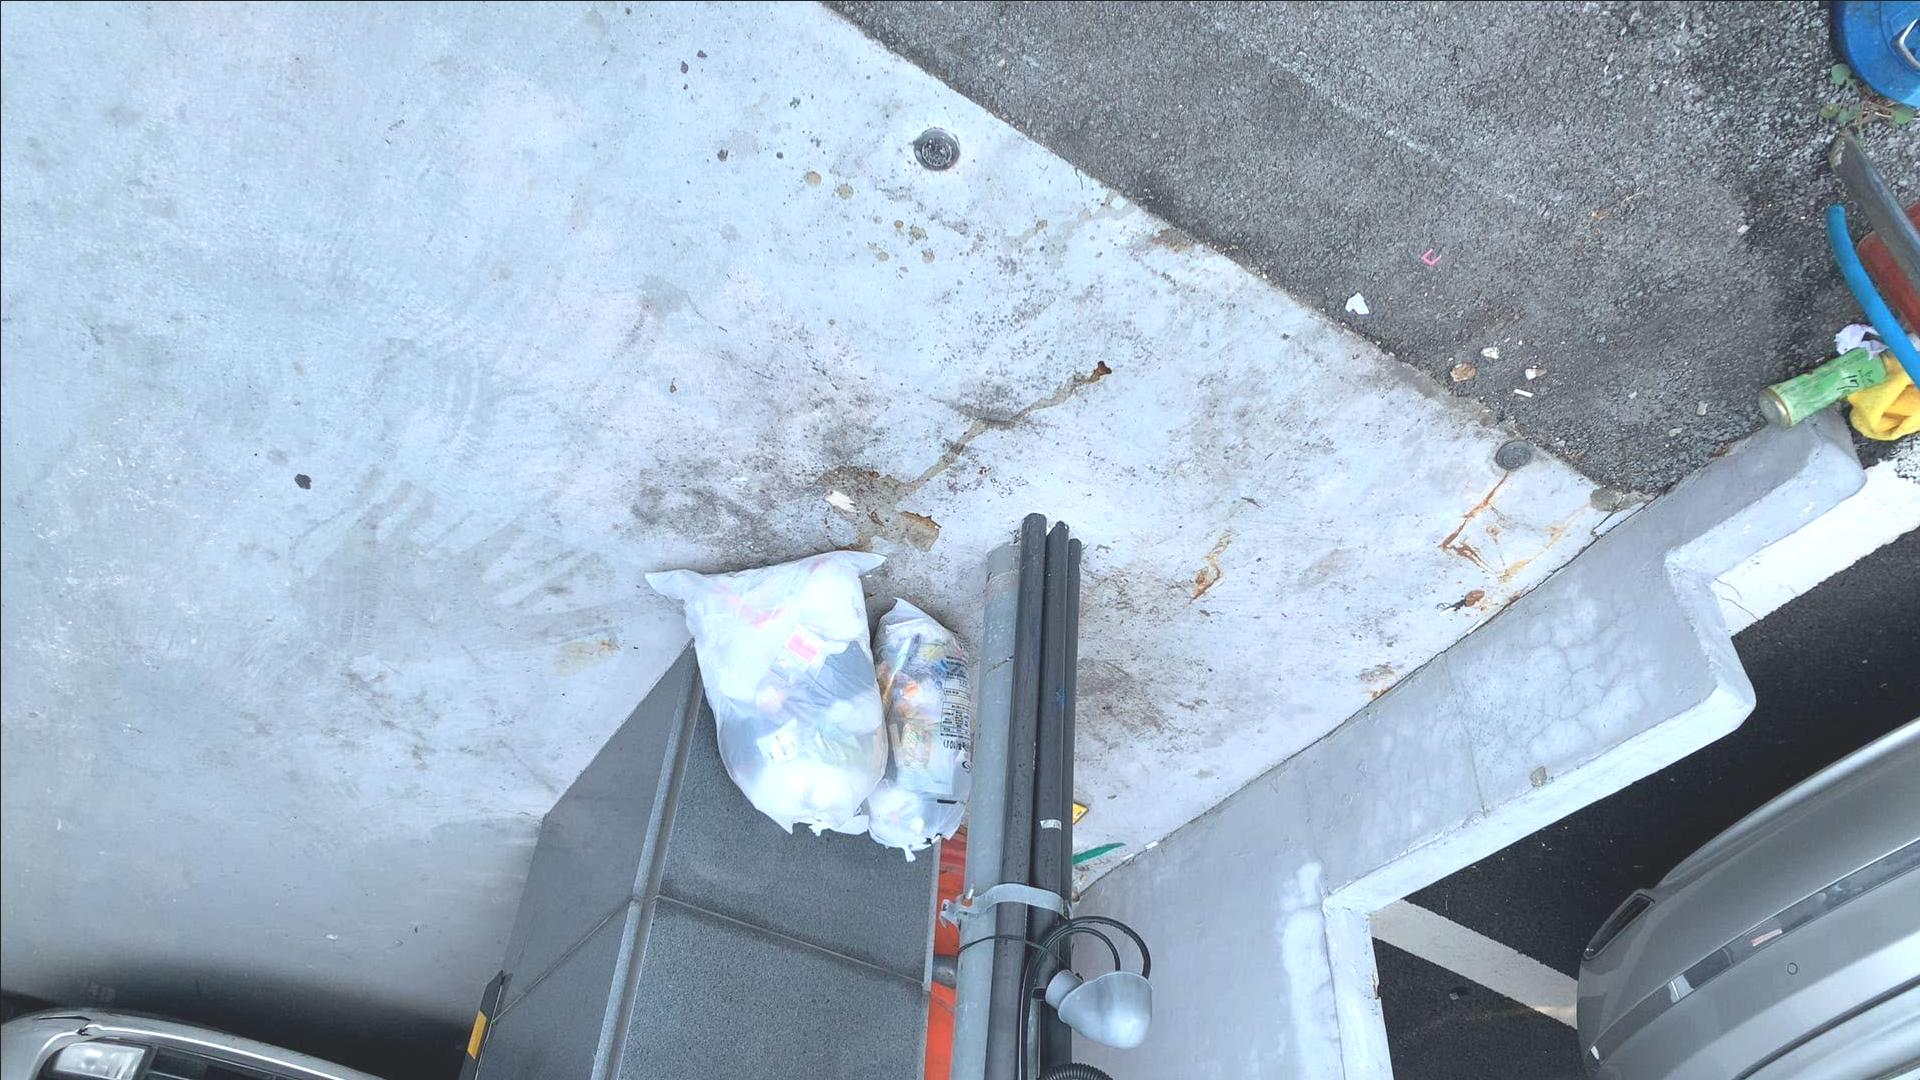white_bag: (632, 535, 895, 843), (843, 582, 972, 866)
